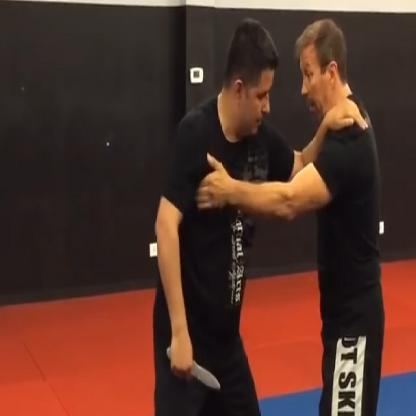knife: (164, 343, 221, 393)
